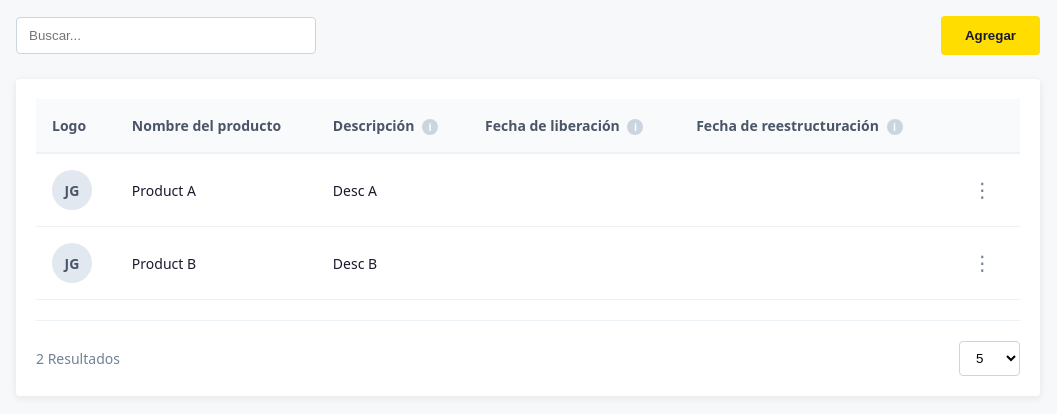
Test: ProductListComponent › debe mostrar el menú contextual al hacer click en ⋮
Click the button with class "btn-menu" in the row of "Product A". click: coordinates (982, 190)
box: [964,174,1000,206]
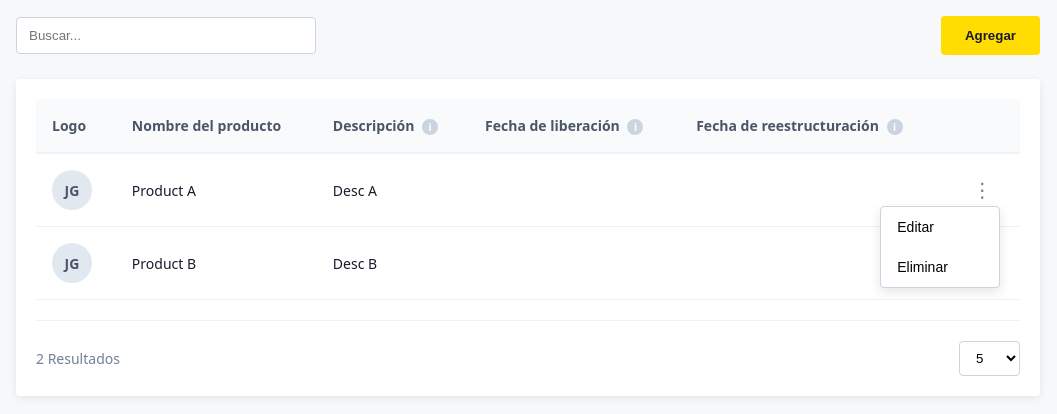
Expected: the element with class "dropdown-menu" is shown, [880,206,1000,288]
